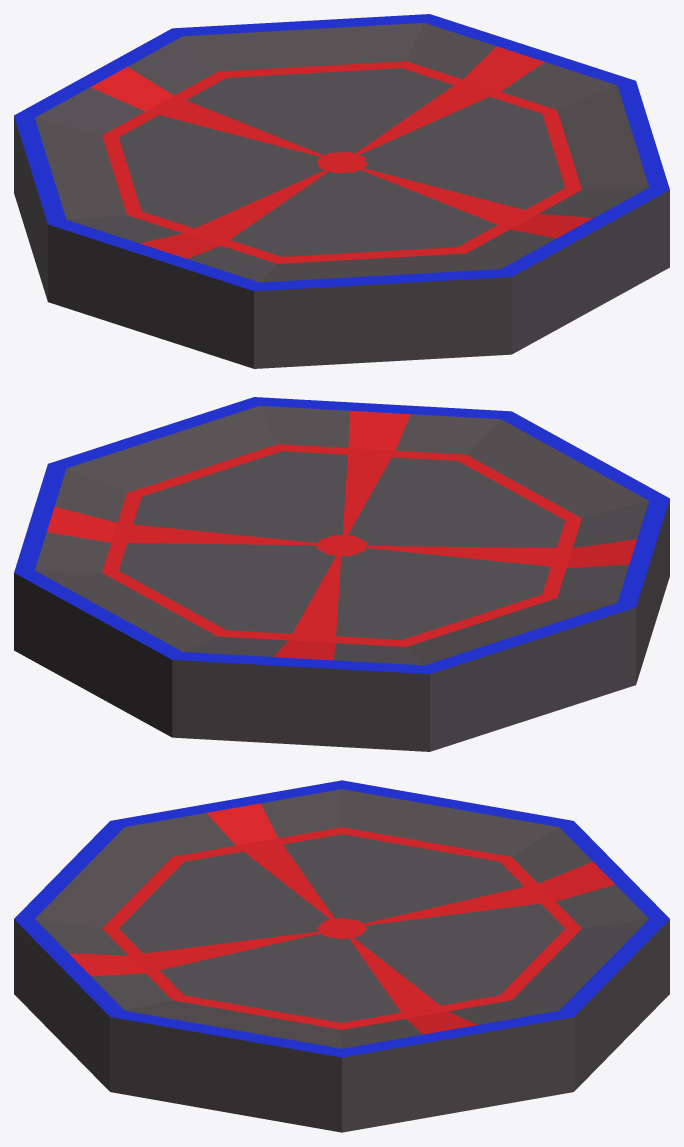
The model's file is Stadium2.fbx.
The picture shows the model from 3 angles, top to bottom: view 1: azimuth 30°, elevation 25°; view 2: azimuth 150°, elevation 25°; view 3: azimuth 270°, elevation 25°; orthographic projection. The views are drawn at different scales.
Parts seen in each view (by area): view 1: Cylinder; view 2: Cylinder; view 3: Cylinder.
Part boxes in pixels (x1,y1,x2,y2): Cylinder: [14, 14, 669, 368]; Cylinder: [14, 397, 669, 751]; Cylinder: [14, 780, 669, 1132].
Bounding box in the file's own units: 2809 × 355 × 2809.
